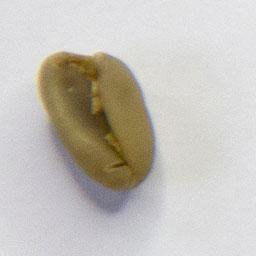peaberry: (35, 42, 160, 196)
